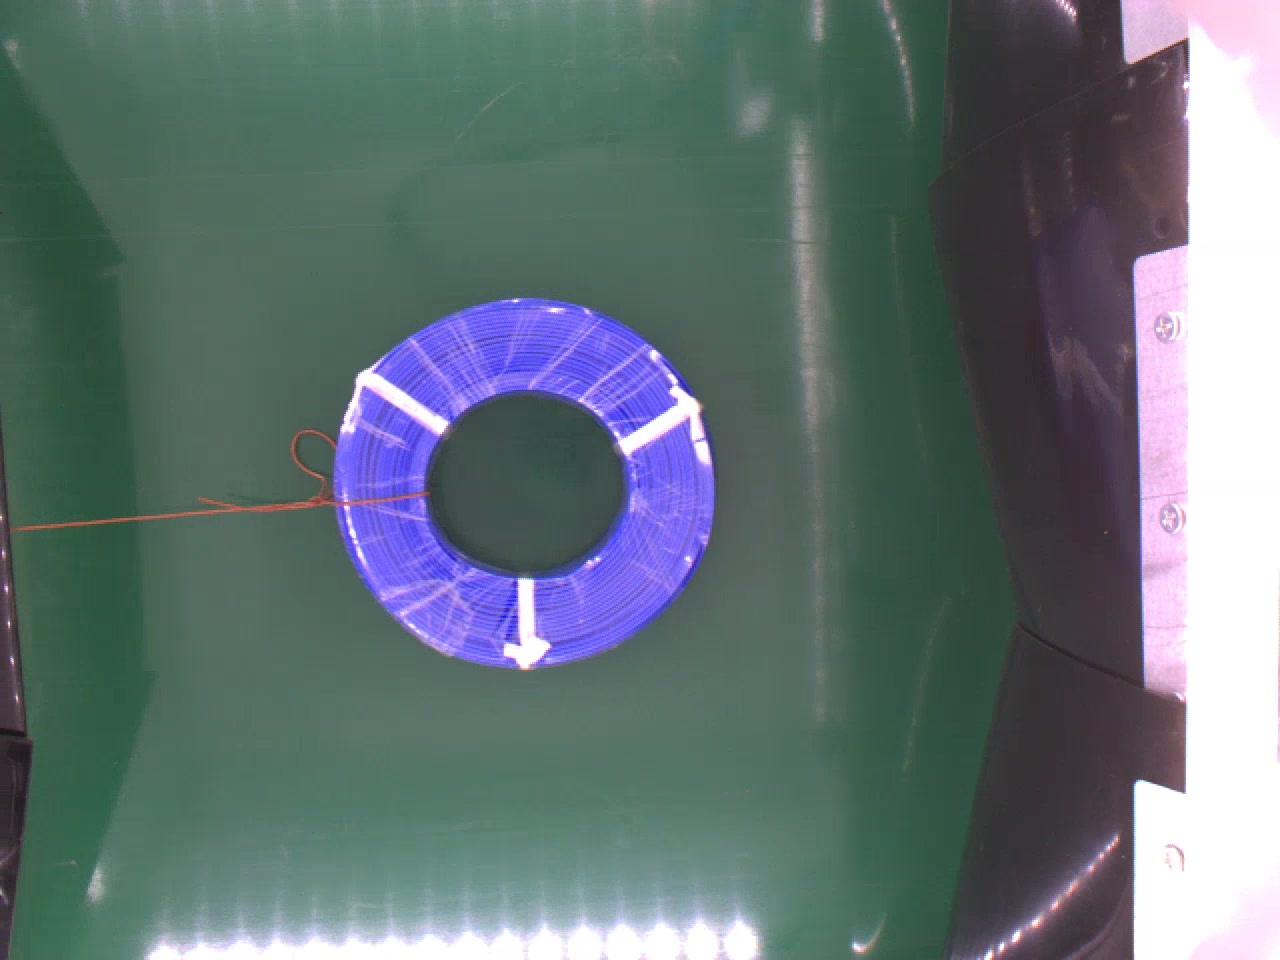blue: (327, 288, 723, 670)
